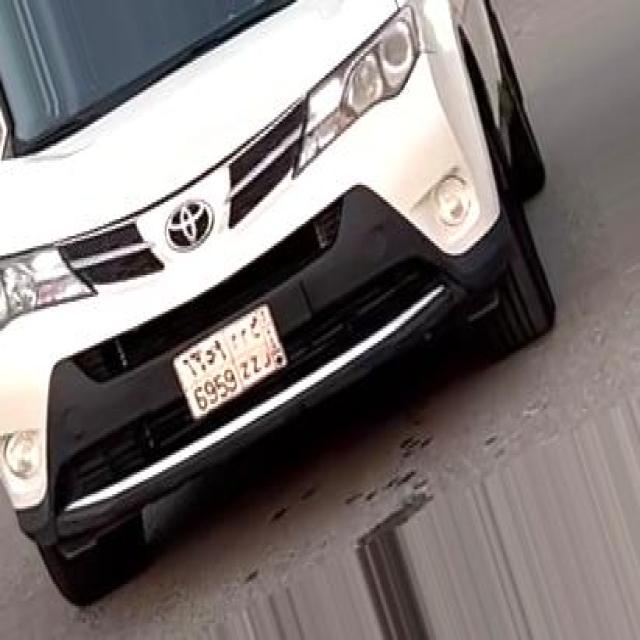Car-plate: (161, 272, 302, 452)
